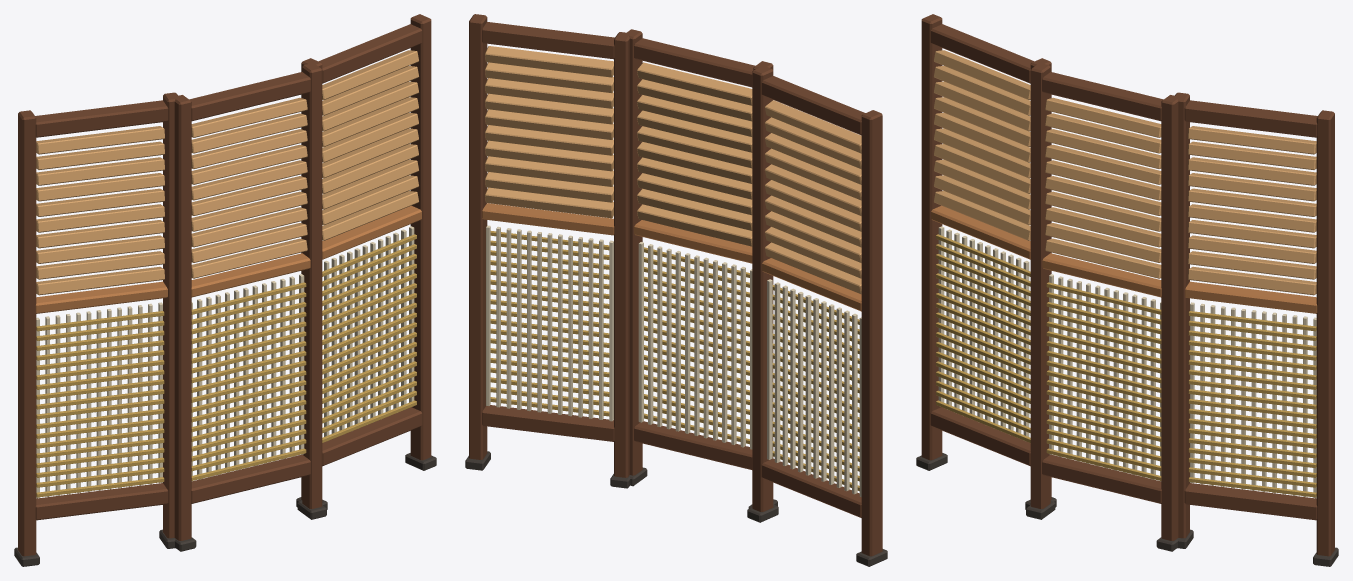
Rendered from 030_folding_privacy_screen_v01.glb.
The picture shows the model from 3 angles, left to right: view 1: azimuth 30°, elevation 25°; view 2: azimuth 150°, elevation 25°; view 3: azimuth 330°, elevation 25°; orthographic projection.
Parts seen in each view (by area): view 1: Screen outer upright, Screen outer upright.002, Screen outer upright.003, Screen outer upright.005, Screen outer upright.001, Screen frame cross rail.001, Screen frame cross rail, Screen frame cross rail.003, Screen frame cross rail.002, Screen frame cross rail.005, Screen frame cross rail.004, Screen center division (+112 smaller); view 2: Screen outer upright, Screen outer upright.005, Screen outer upright.004, Screen outer upright.001, Screen outer upright.003, Screen frame cross rail.005, Screen frame cross rail.004, Screen frame cross rail.003, Screen frame cross rail.002, Screen frame cross rail.001, Screen frame cross rail, Screen center division.002 (+71 smaller); view 3: Screen outer upright.005, Screen outer upright.003, Screen outer upright.002, Screen outer upright, Screen outer upright.004, Screen frame cross rail.005, Screen frame cross rail.004, Screen frame cross rail.003, Screen frame cross rail.002, Screen frame cross rail.001, Screen frame cross rail, Screen center division.002 (+111 smaller).
Part boxes in pixels (box(x1,y1,x2,y2)): Screen outer upright: box(18, 110, 36, 556); Screen outer upright.002: box(174, 95, 191, 540); Screen outer upright.003: box(302, 63, 322, 508); Screen outer upright.005: box(410, 14, 431, 460); Screen outer upright.001: box(163, 92, 179, 538); Screen frame cross rail.001: box(35, 100, 168, 137); Screen frame cross rail: box(35, 483, 168, 520); Screen frame cross rail.003: box(189, 72, 310, 121); Screen frame cross rail.002: box(191, 454, 310, 503); Screen frame cross rail.005: box(318, 24, 422, 83); Screen frame cross rail.004: box(322, 407, 422, 466); Screen center division: box(35, 281, 167, 313); Screen outer upright: box(861, 110, 882, 556); Screen outer upright.005: box(469, 14, 487, 459); Screen outer upright.004: box(614, 32, 629, 477); Screen outer upright.001: box(752, 66, 773, 511); Screen outer upright.003: box(624, 29, 642, 475); Screen frame cross rail.005: box(482, 22, 614, 59); Screen frame cross rail.004: box(482, 405, 614, 441); Screen frame cross rail.003: box(634, 38, 755, 87); Screen frame cross rail.002: box(634, 421, 752, 469); Screen frame cross rail.001: box(761, 76, 865, 135); Screen frame cross rail: box(761, 458, 861, 517); Screen center division.002: box(482, 203, 614, 235); Screen outer upright.005: box(1316, 110, 1334, 556); Screen outer upright.003: box(1161, 95, 1179, 540); Screen outer upright.002: box(1030, 63, 1050, 508); Screen outer upright: box(921, 14, 942, 460); Screen outer upright.004: box(1174, 92, 1189, 538); Screen frame cross rail.005: box(1184, 100, 1317, 137); Screen frame cross rail.004: box(1184, 483, 1317, 520); Screen frame cross rail.003: box(1042, 72, 1163, 121); Screen frame cross rail.002: box(1042, 454, 1161, 503); Screen frame cross rail.001: box(930, 24, 1034, 83); Screen frame cross rail: box(930, 407, 1030, 466); Screen center division.002: box(1185, 281, 1317, 313).
Size of the model in its own units: 1.56 by 1.6 by 0.2452.
